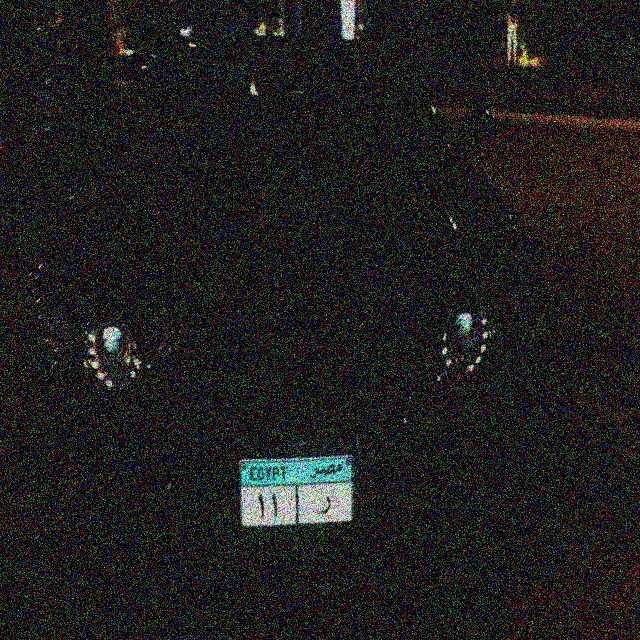License Plate: (236, 451, 357, 530)
